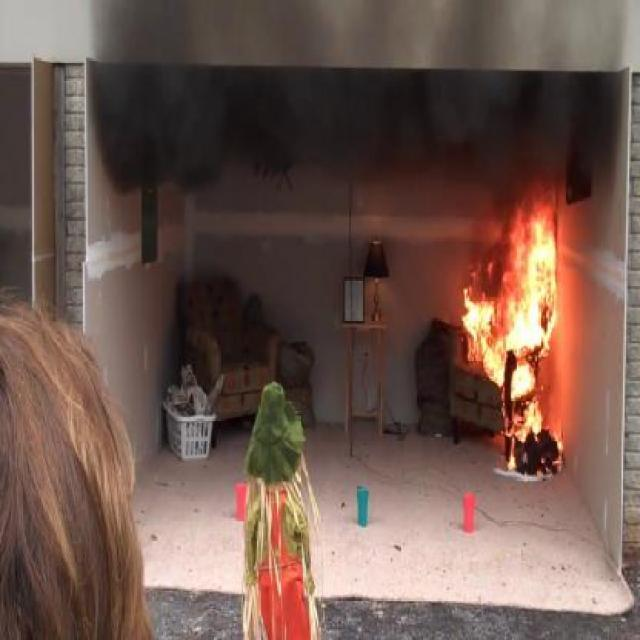fire: (458, 182, 568, 468)
smoke: (94, 20, 608, 169)
